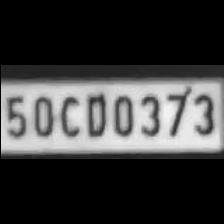0: (27, 90, 55, 138), (107, 91, 135, 137)
3: (134, 91, 162, 137), (187, 90, 215, 136)
5: (0, 92, 26, 140)
7: (161, 90, 189, 138)
C: (55, 90, 80, 138)
D: (80, 90, 108, 138)
